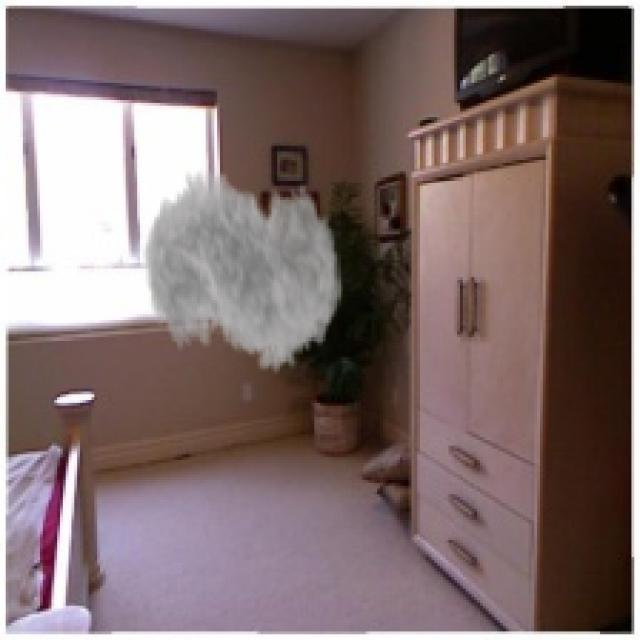Smoke: (143, 142, 343, 392)
